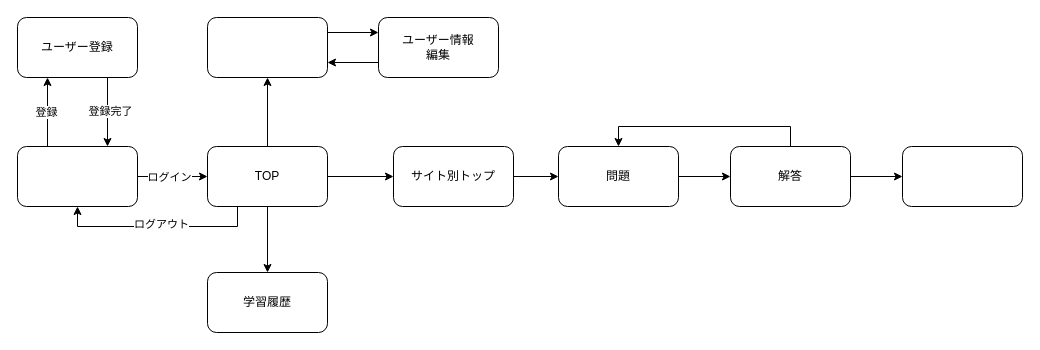
The diagram is 1040 pixels wide and 350 high, and some of its shapes have lost their labels. Each missing label, with the centre of its shape:
ユーザー情報 詳細: (x=267, y=47)
ログイン画面: (x=77, y=176)
結果: (x=962, y=176)
